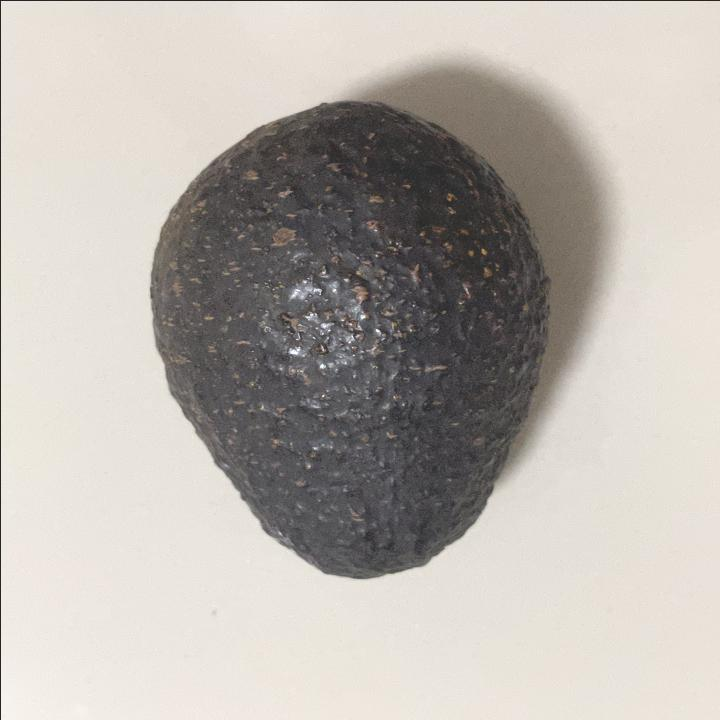Level2: (139, 92, 560, 588)
